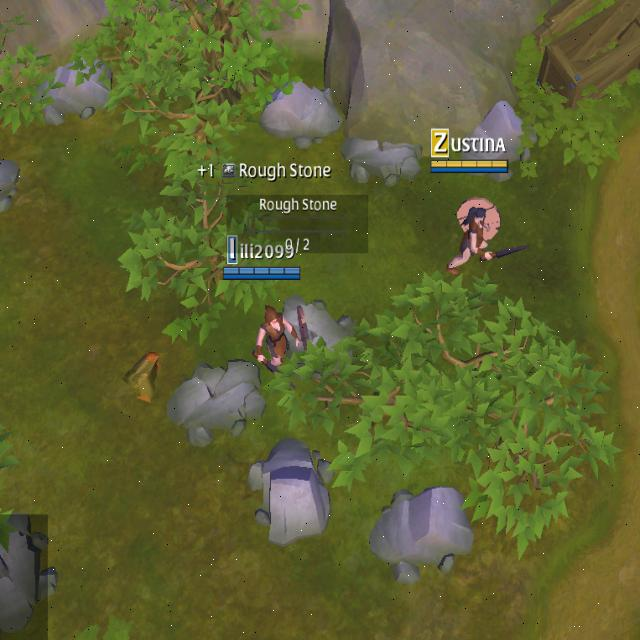broken stone: (272, 281, 381, 402), (162, 357, 278, 451), (336, 117, 436, 196)
stone: (245, 428, 348, 557), (372, 477, 481, 588), (247, 75, 358, 152), (29, 47, 129, 122), (461, 96, 544, 186)
